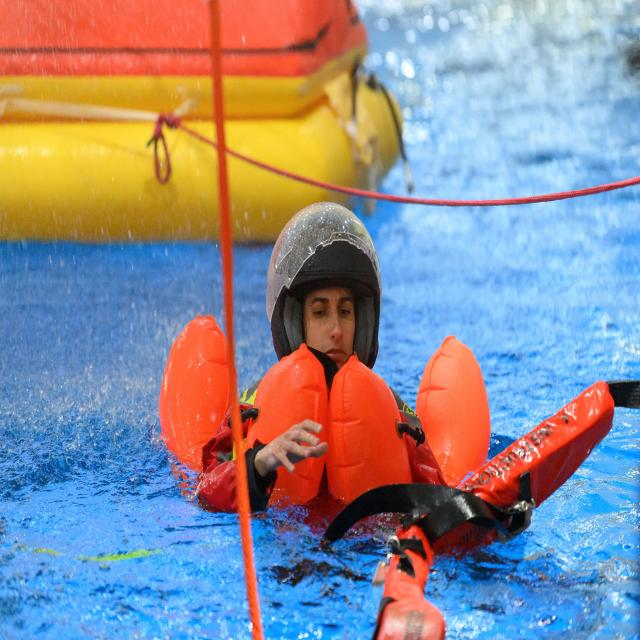Mannequin_wearing_orange-colored_life_preserver_unit_ LPU: (157, 314, 329, 512), (324, 330, 490, 508)
Multi-person_life_raft: (1, 2, 402, 245)
